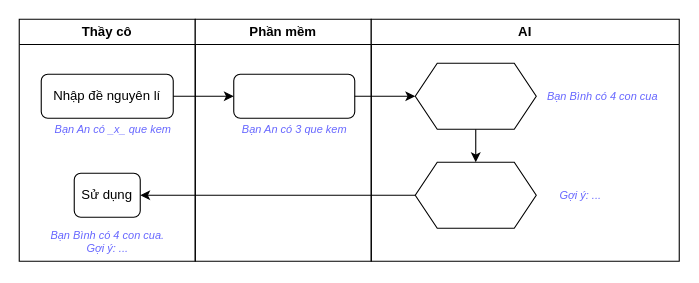
This 699x283 diagram has some shape labels left out. Each missing label, with the centre of its shape:
"Thêm gợi ý cách làm" goes at (x=475, y=194).
"Tạo đề với bối cảnh mới" goes at (x=475, y=95).
"Tạo đề với số theo nguyên lí" goes at (x=294, y=95).
